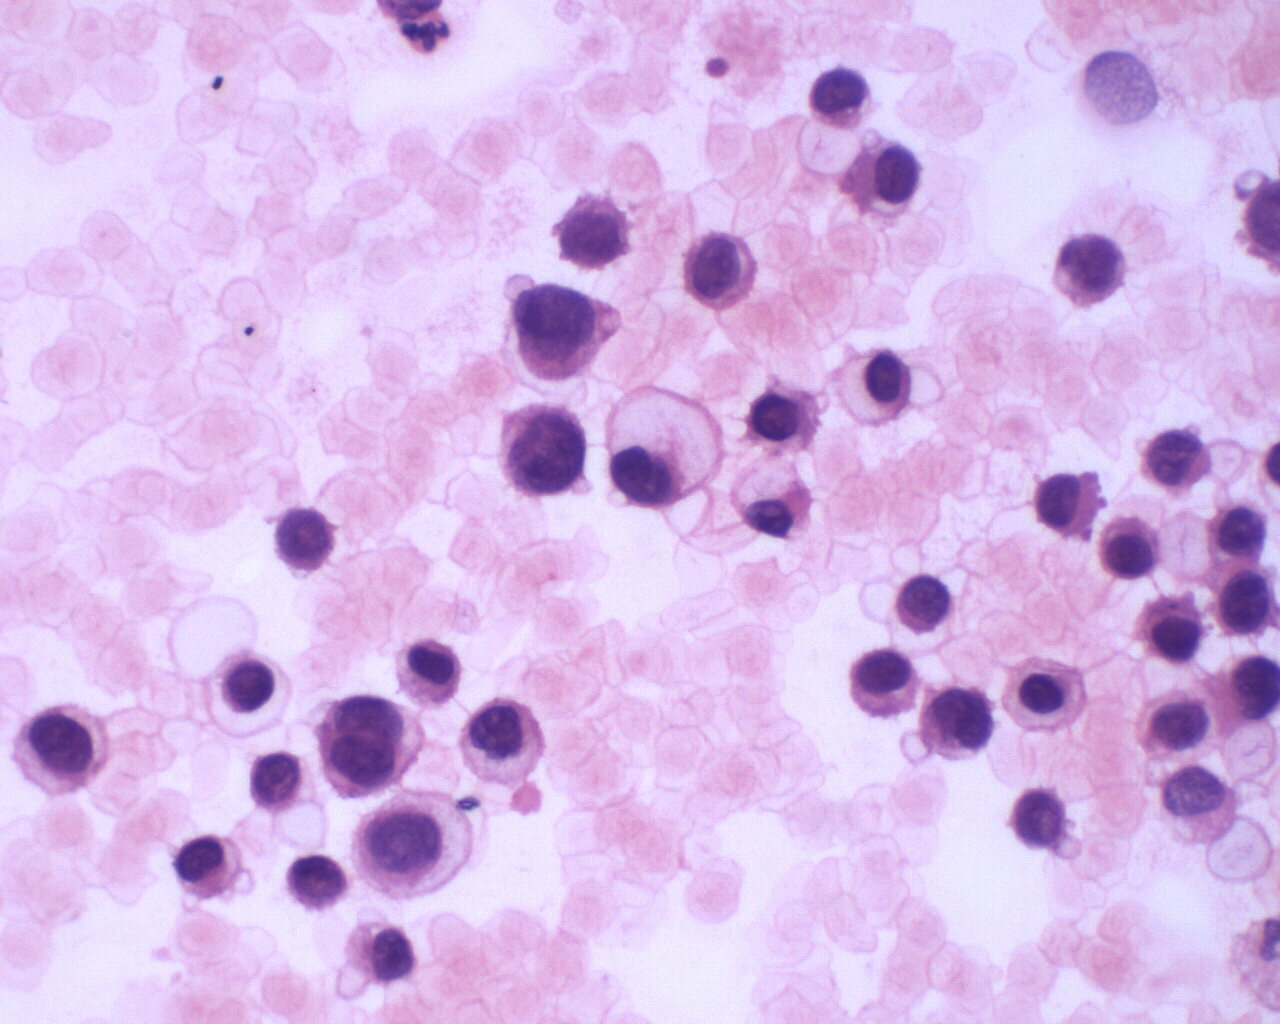ab: (315, 693, 430, 801), (505, 277, 613, 380), (491, 397, 594, 503), (9, 704, 115, 799), (461, 688, 552, 788), (679, 225, 764, 317), (916, 682, 1001, 767), (554, 191, 636, 275), (1048, 228, 1130, 309), (1135, 588, 1210, 667), (267, 503, 341, 576), (1097, 508, 1166, 583), (1215, 560, 1280, 639), (807, 63, 877, 132), (1009, 782, 1073, 854), (891, 571, 958, 637), (283, 853, 353, 915), (247, 748, 308, 817), (218, 659, 280, 717)
histo: (604, 379, 728, 515)
meso: (1002, 648, 1090, 734), (833, 346, 916, 428)
